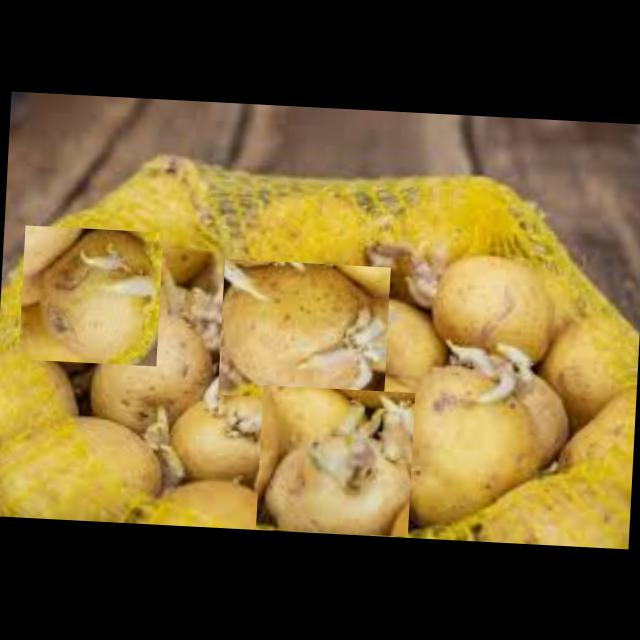Sprouted potato: (390, 331, 586, 535), (74, 294, 223, 466), (218, 258, 391, 404), (256, 385, 415, 537), (402, 250, 568, 380), (18, 226, 164, 366)
